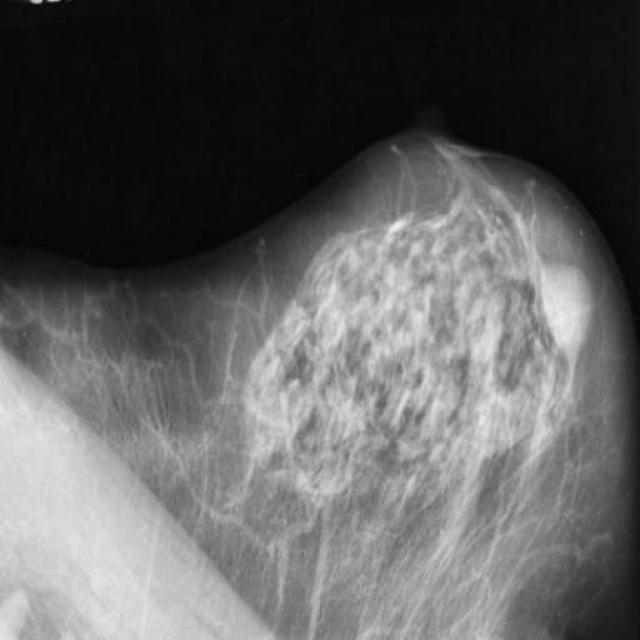cancer: (499, 234, 603, 378)
